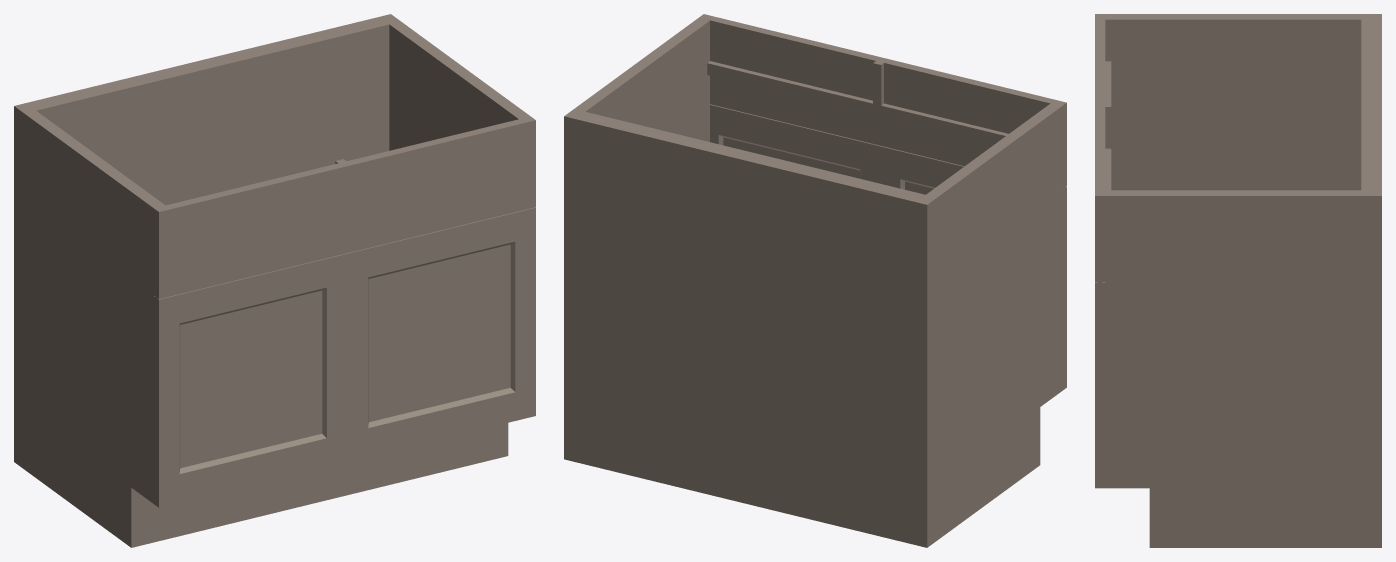
The model's file is Universal-Design-Sink-Base-Cabinet-Double_std_001_W36in.glb.
3 views of the same model, side by side, from view 1: azimuth 30°, elevation 25°; view 2: azimuth 150°, elevation 25°; view 3: azimuth 270°, elevation 25° (orthographic). The views are drawn at different scales.
Parts seen in each view (by area): view 1: Universal-Design-Sink-Base-Cabinet-Double.std.001_W36in; view 2: Universal-Design-Sink-Base-Cabinet-Double.std.001_W36in; view 3: Universal-Design-Sink-Base-Cabinet-Double.std.001_W36in.
Part boxes in pixels (x1,y1,x2,y2): Universal-Design-Sink-Base-Cabinet-Double.std.001_W36in: (14, 14, 535, 547); Universal-Design-Sink-Base-Cabinet-Double.std.001_W36in: (564, 14, 1066, 547); Universal-Design-Sink-Base-Cabinet-Double.std.001_W36in: (1095, 14, 1381, 547).
Size of the model in its own units: 0.9144 by 0.8255 by 0.6096.
